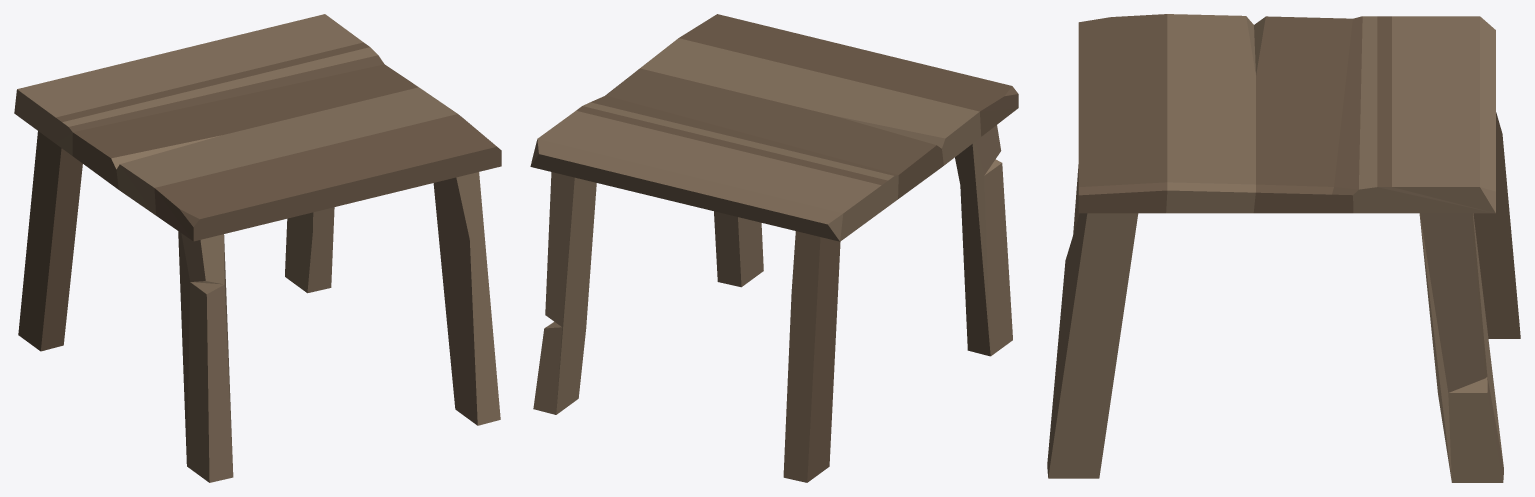
The model's file is EA03_Prop_Tabble_02a.glb.
3 renders of one model, left to right at view 1: azimuth 30°, elevation 25°; view 2: azimuth 150°, elevation 25°; view 3: azimuth 270°, elevation 25°, orthographic. The views are drawn at different scales.
Parts seen in each view (by area): view 1: EA03_Prop_Tabble_02a; view 2: EA03_Prop_Tabble_02a; view 3: EA03_Prop_Tabble_02a.
Boxes of the visible parts, x1,y1,x2,y2 form: EA03_Prop_Tabble_02a: [14, 14, 501, 482]; EA03_Prop_Tabble_02a: [530, 14, 1018, 482]; EA03_Prop_Tabble_02a: [1047, 14, 1520, 482].
Size of the model in its own units: 0.784 by 0.6447 by 0.918.
1 material, 1 textured.
